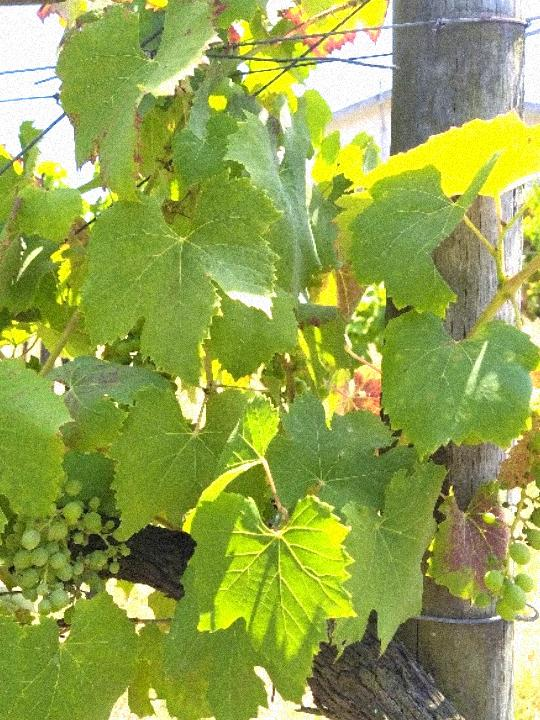grape: (1, 475, 132, 629), (477, 377, 540, 621)
